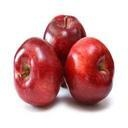apple: (42, 14, 88, 87)
